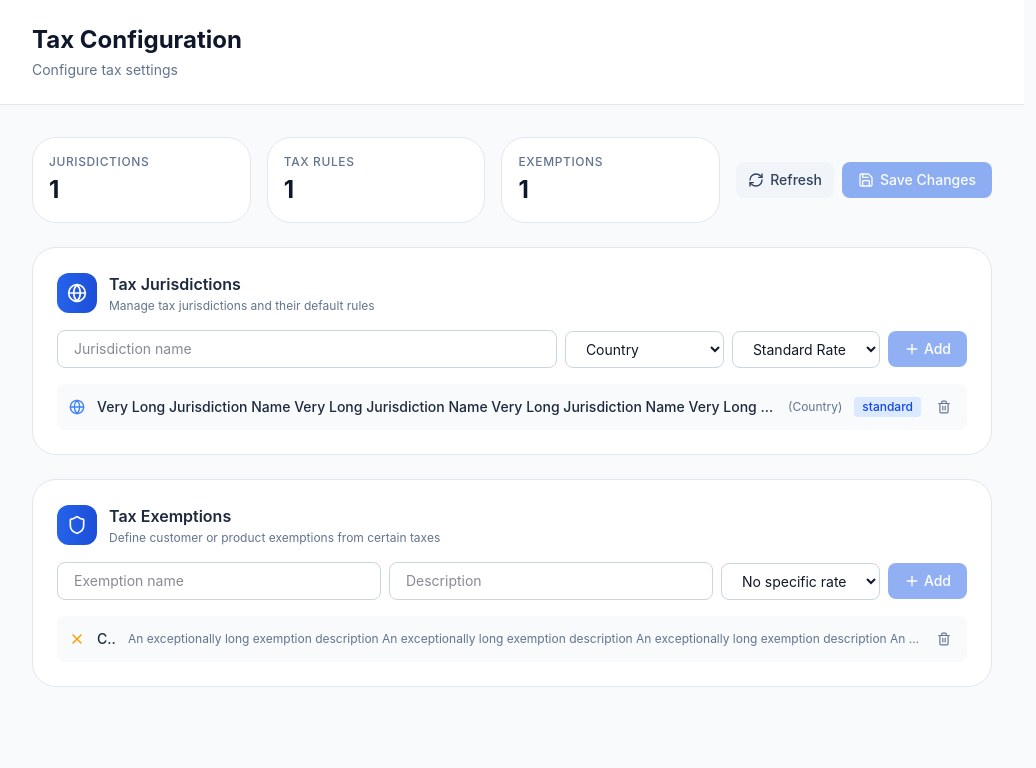
Test: BUG-11.13 Tax Configuration › Save is disabled until something changes, and disabled again after reverting
The width and height of the screenshot is (1036, 768).
expect the heading "Tax Jurisdictions" is shown: met, box 109,274 -> 241,294
expect the button "Save Changes" is disabled: met, box 842,162 -> 992,198
In the field labelled "Jurisdiction name": (307, 349) 57,330 -> 557,368, type "UK"
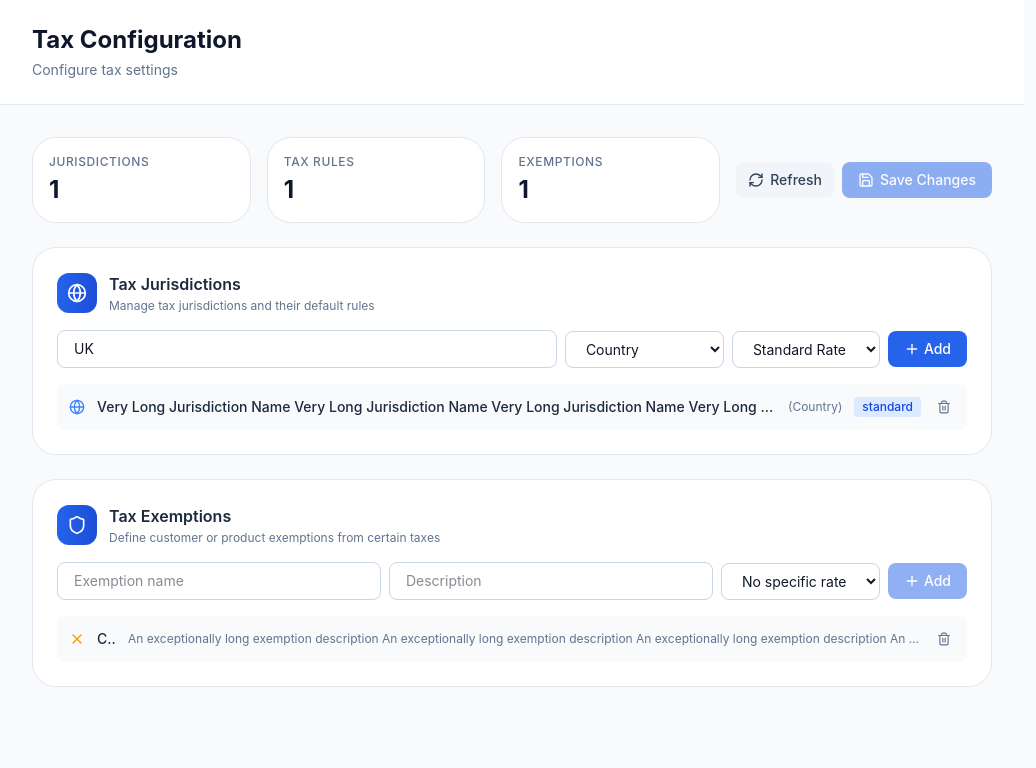
Click the 1st button "Add": (927, 349) 888,331 -> 967,367
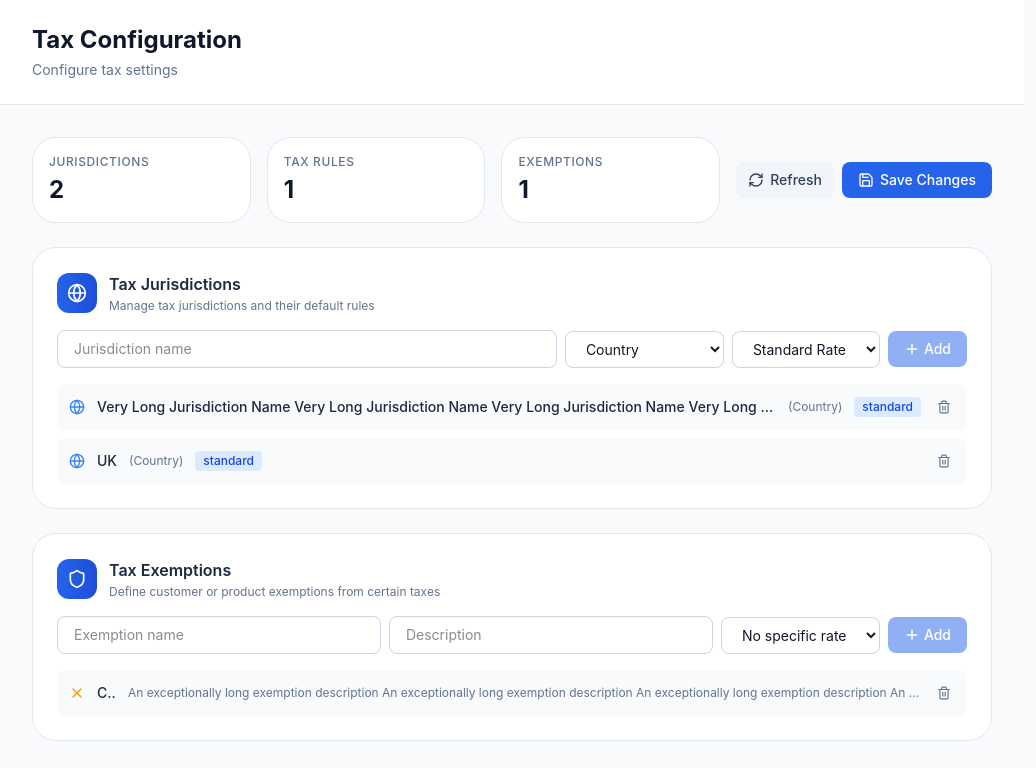
expect the button "Save Changes" is enabled: met, box 842,162 -> 992,198
Click the button named "Remove jurisdiction UK": (944, 461) 933,450 -> 955,472
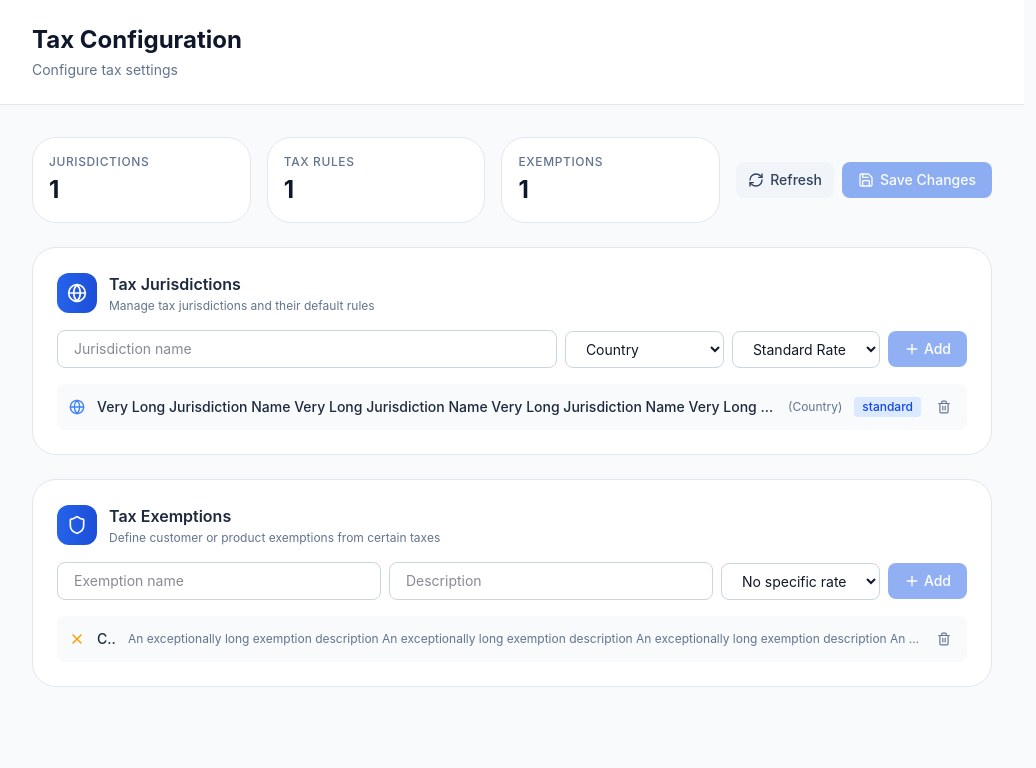
expect the button "Save Changes" is disabled: met, box 842,162 -> 992,198
